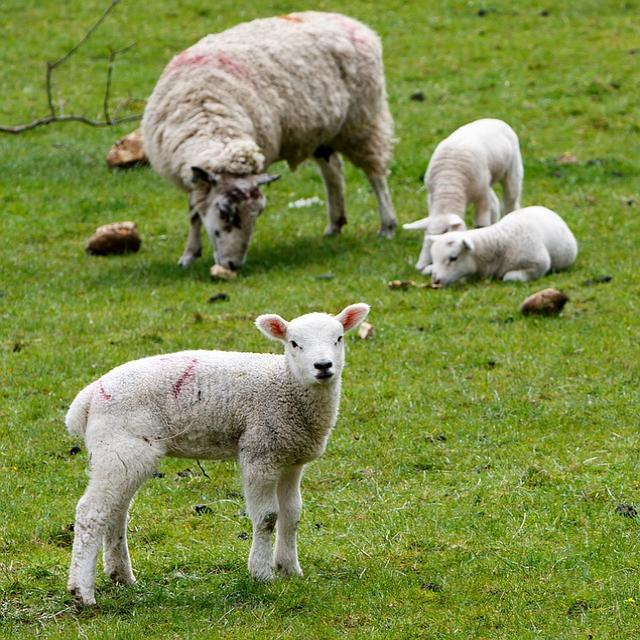goat: (66, 304, 369, 604), (141, 11, 396, 271), (403, 119, 523, 236), (429, 206, 577, 284)
